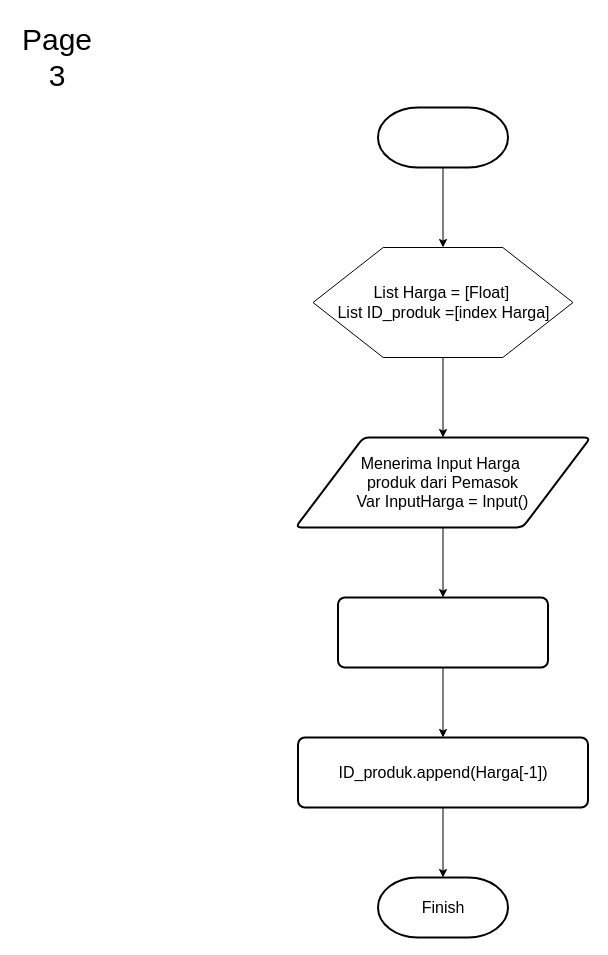
Some shapes in this 608 by 955 pixel diagram are drawn without their labels. Each missing label, with the box of its shape:
Harga.append(InputHarga): (336, 596, 548, 668)
START: (376, 106, 508, 168)
